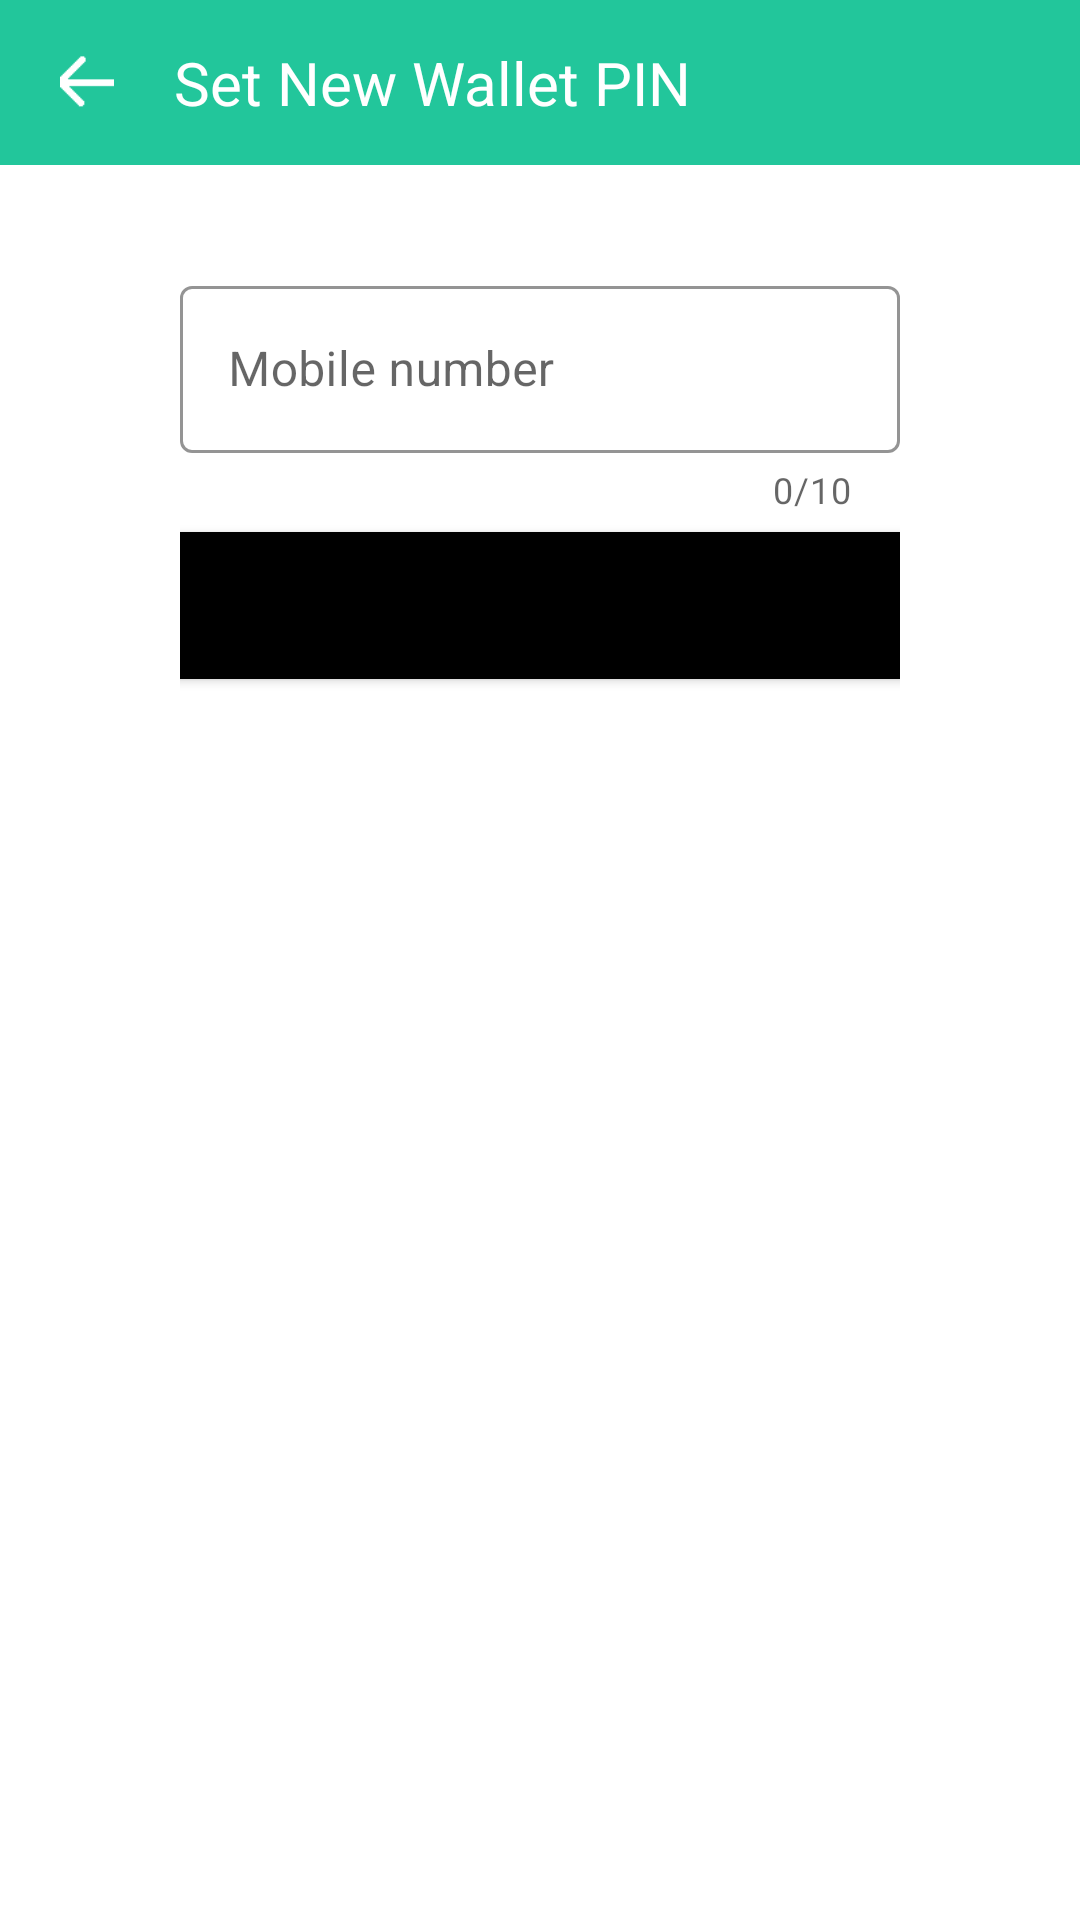

Screen size 1080 × 1920. Icon name, then its box in pixels as bbox=(x1, y1, x2, y2):
arrow: bbox=(60, 56, 114, 107)
